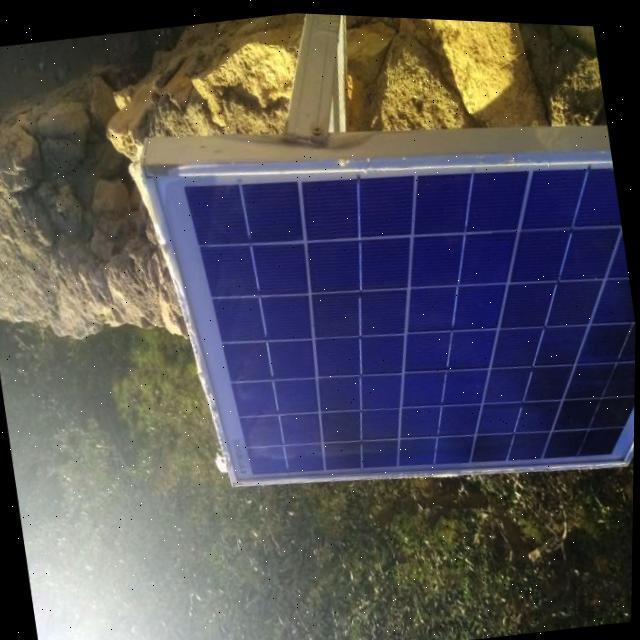Normal Solar Panel: (145, 102, 639, 530)
